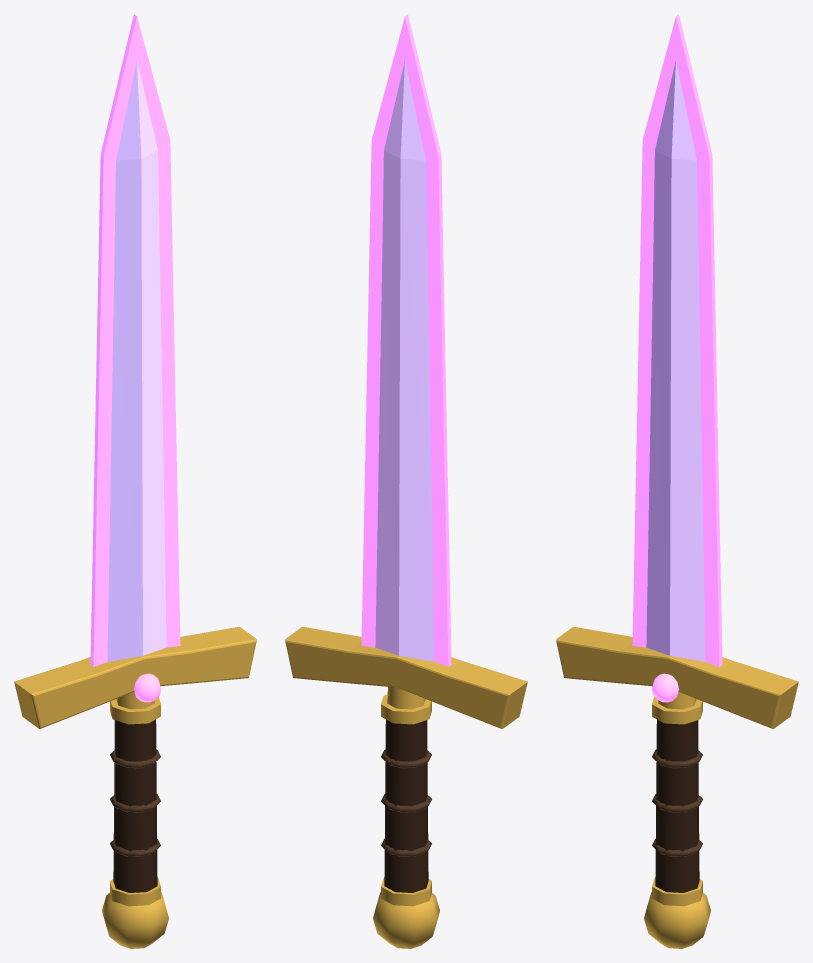
Rendered from sword_f0_c413b741.glb.
3 renders of one model, left to right at view 1: azimuth 30°, elevation 25°; view 2: azimuth 150°, elevation 25°; view 3: azimuth 330°, elevation 25°, orthographic.
Visible parts, largest first — view 1: m0_ow80_, m1_, m4_ow80_, m2_ow80_, m5_ow80_, m3_gm160_; view 2: m0_ow80_, m1_, m4_ow80_, m2_ow80_, m5_ow80_; view 3: m0_ow80_, m1_, m4_ow80_, m2_ow80_, m5_ow80_, m3_gm160_.
Part boxes in pixels (x1,y1,x2,y2): m0_ow80_: (107,61,166,661); m1_: (90,14,180,666); m4_ow80_: (14,627,256,948); m2_ow80_: (113,719,157,892); m5_ow80_: (110,749,160,856); m3_gm160_: (134,673,161,702); m0_ow80_: (375,61,434,661); m1_: (361,14,451,666); m4_ow80_: (285,627,527,948); m2_ow80_: (384,719,428,892); m5_ow80_: (381,749,431,856); m0_ow80_: (646,61,705,661); m1_: (632,14,722,666); m4_ow80_: (556,627,798,948); m2_ow80_: (655,719,699,892); m5_ow80_: (652,749,702,856); m3_gm160_: (651,673,678,702).
Size of the model in its own units: 0.4791 by 1.89 by 0.134.
